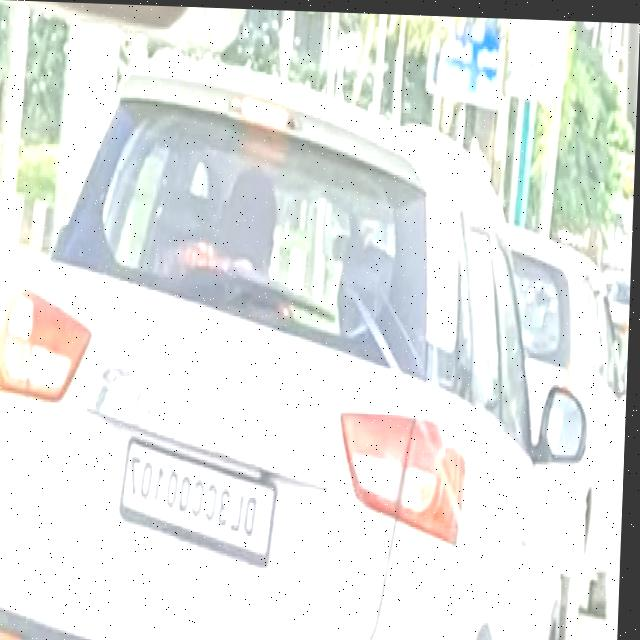plate: (121, 436, 283, 574)
